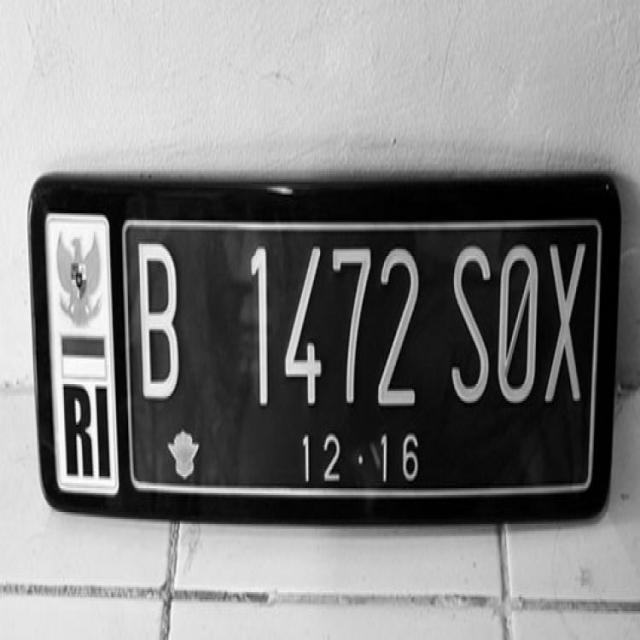clone-license-plate: (123, 223, 600, 519)
